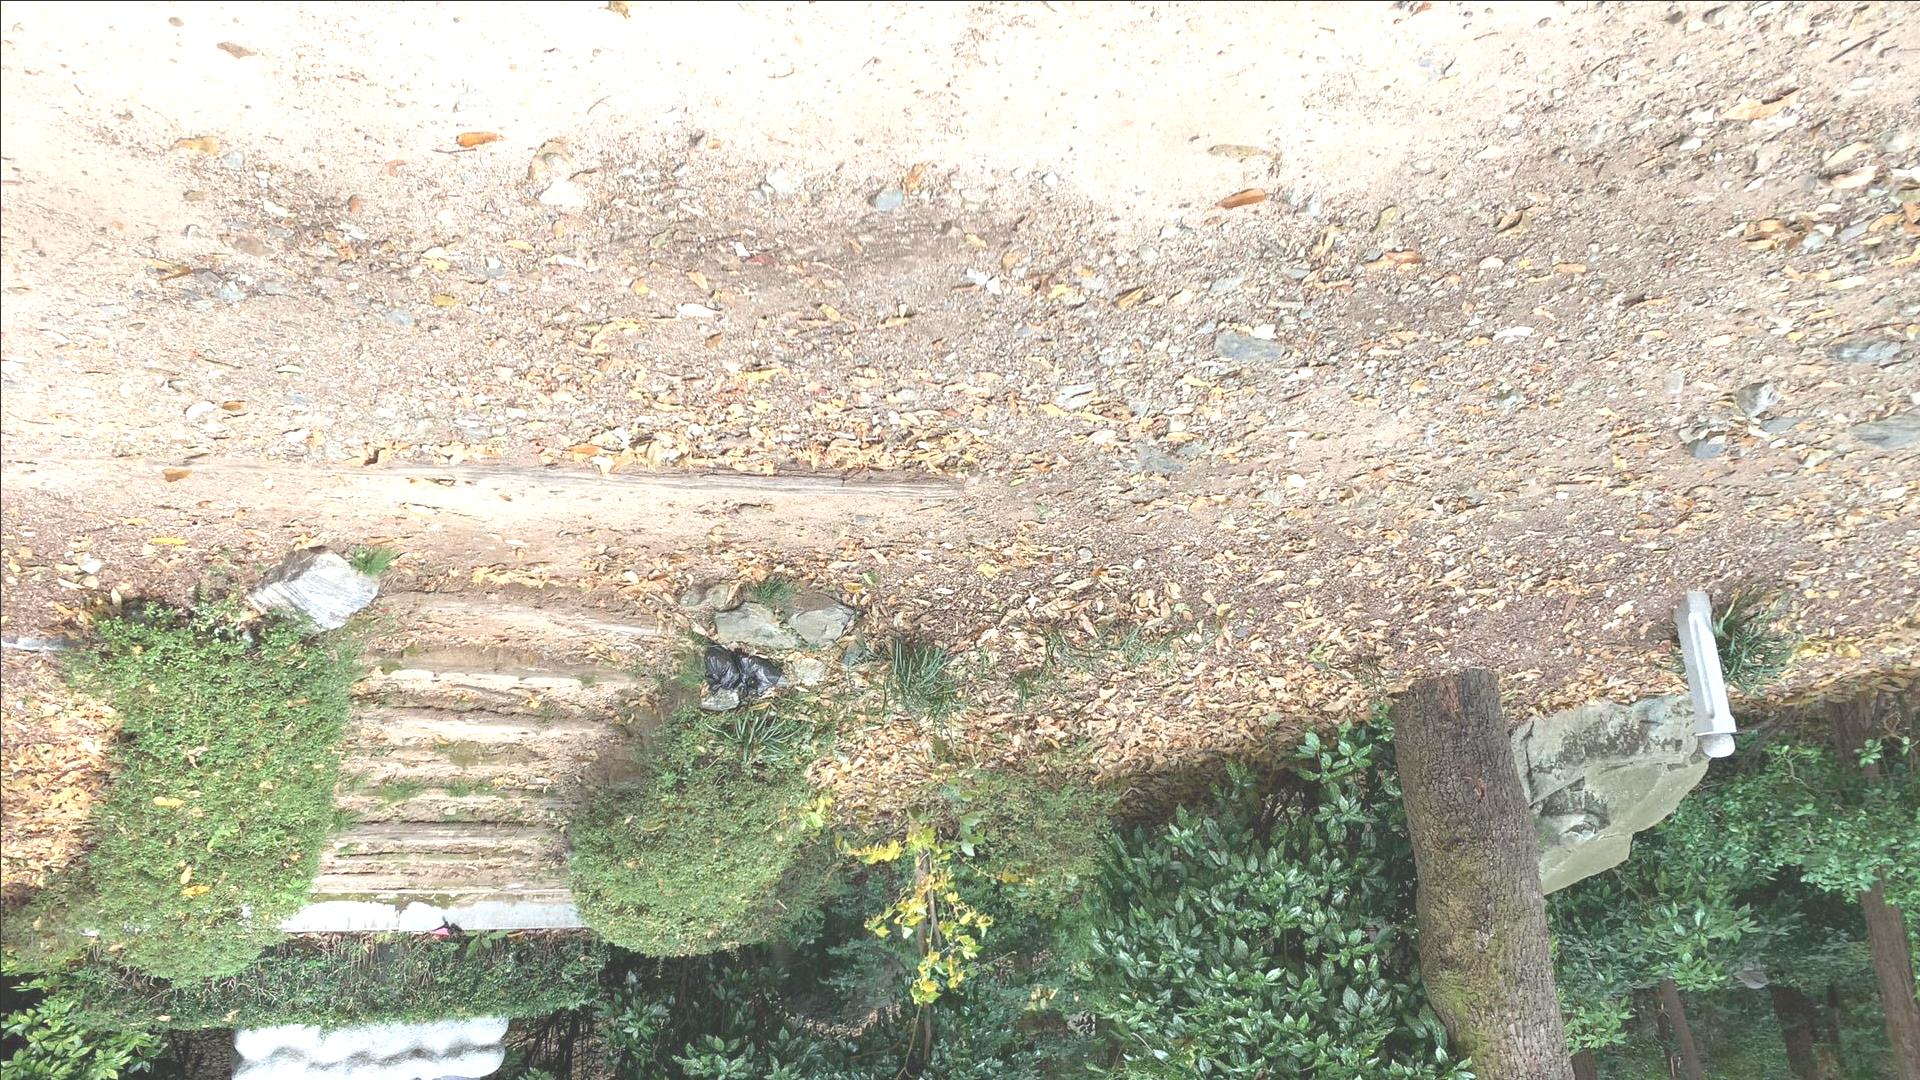black_bag: (736, 649, 785, 703), (702, 647, 742, 695)
